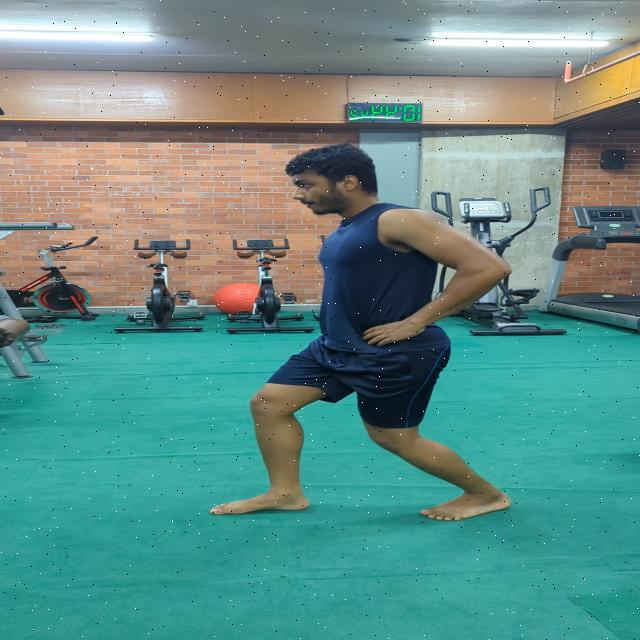Normal_Lunges: (200, 136, 526, 526)
